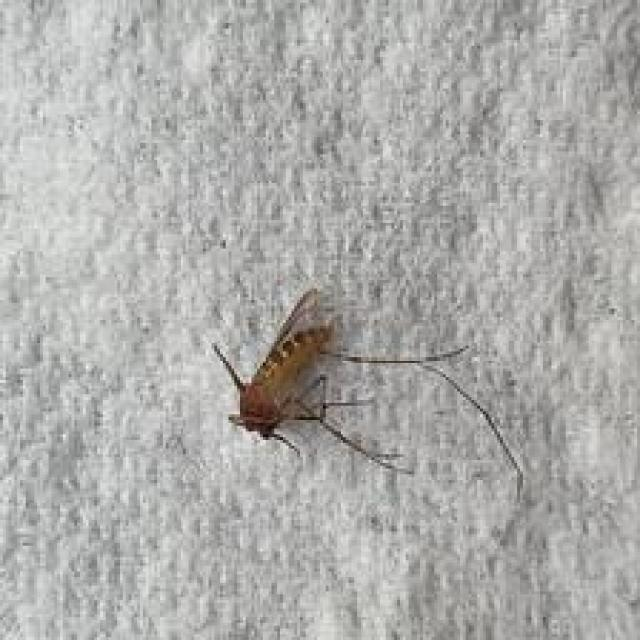Culex: (210, 287, 524, 502)
